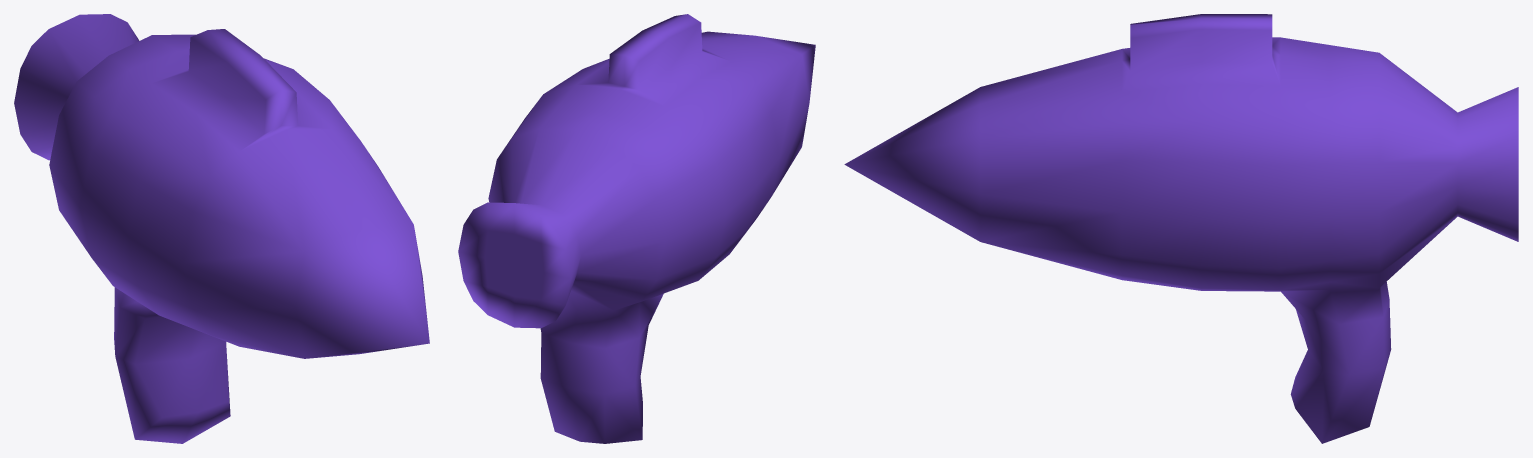
File: Gun.fbx
3 renders of one model, left to right at view 1: azimuth 30°, elevation 25°; view 2: azimuth 150°, elevation 25°; view 3: azimuth 270°, elevation 25°, orthographic. The views are drawn at different scales.
Visible parts, largest first — view 1: pCube33; view 2: pCube33; view 3: pCube33.
Part boxes in pixels (x1,y1,x2,y2): pCube33: [14, 14, 429, 443]; pCube33: [458, 14, 815, 443]; pCube33: [844, 14, 1518, 443].
Size of the model in its own units: 0.6909 by 1.16 by 1.7.
